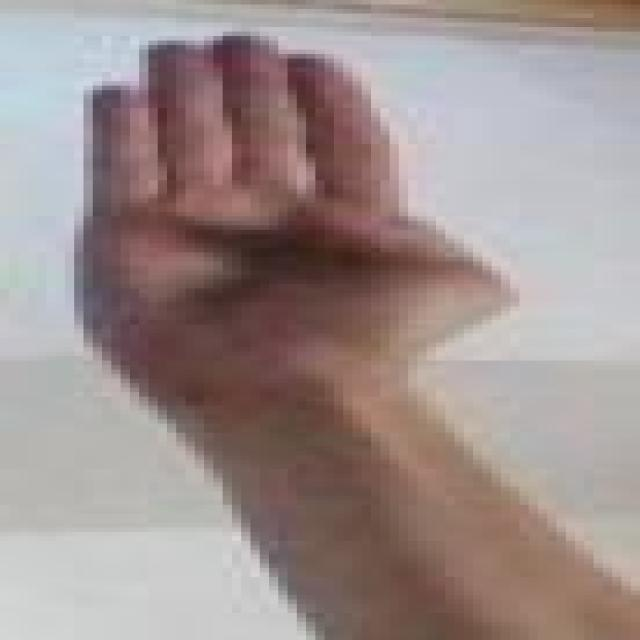B: (7, 3, 536, 389)
